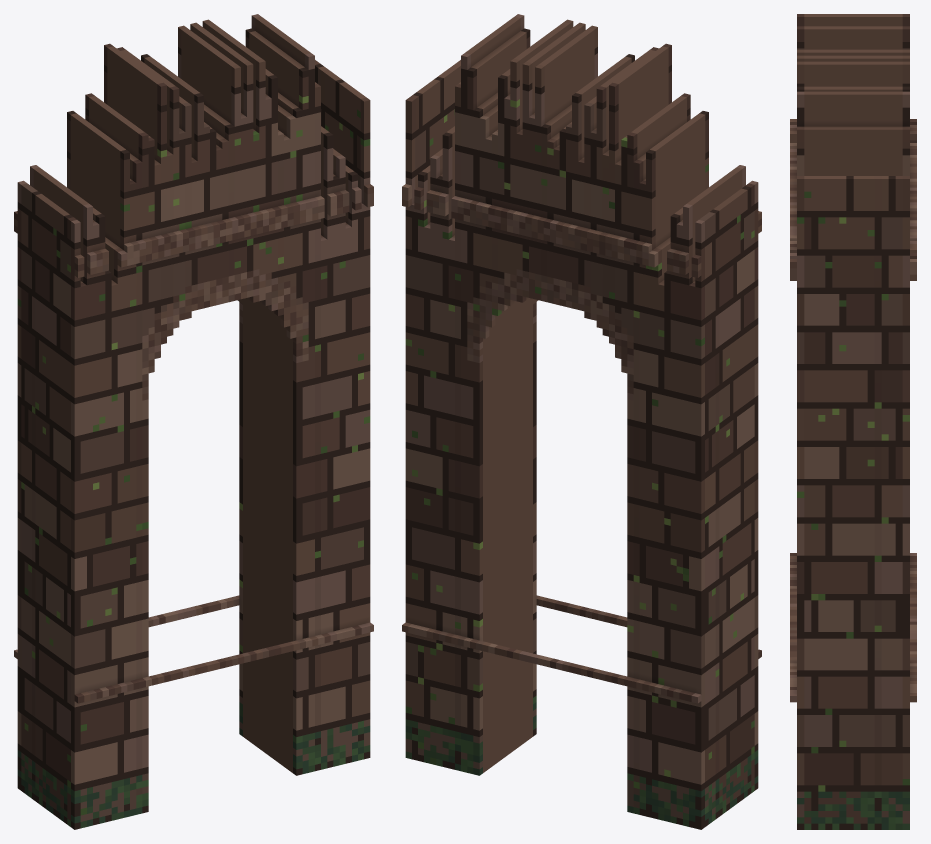
The model's file is monument.glb.
3 views of the same model, side by side, from view 1: azimuth 30°, elevation 25°; view 2: azimuth 150°, elevation 25°; view 3: azimuth 270°, elevation 25° (orthographic).
Parts seen in each view (by area): view 1: monument; view 2: monument; view 3: monument.
Part boxes in pixels (bbox=[...]): monument: bbox=[14, 14, 373, 829]; monument: bbox=[402, 14, 761, 829]; monument: bbox=[790, 14, 916, 829].
Size of the model in its own units: 3 by 7 by 1.12.
